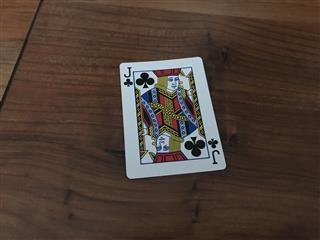JackOfClubs: (118, 55, 226, 179)
